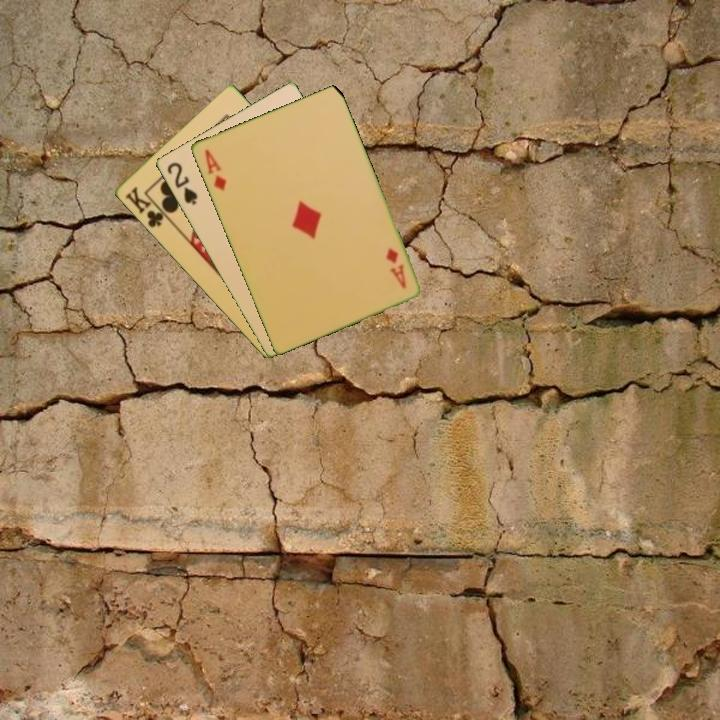2s: (163, 158, 200, 208)
Ad: (200, 146, 229, 194), (381, 244, 409, 291)
Kc: (121, 183, 172, 231)
